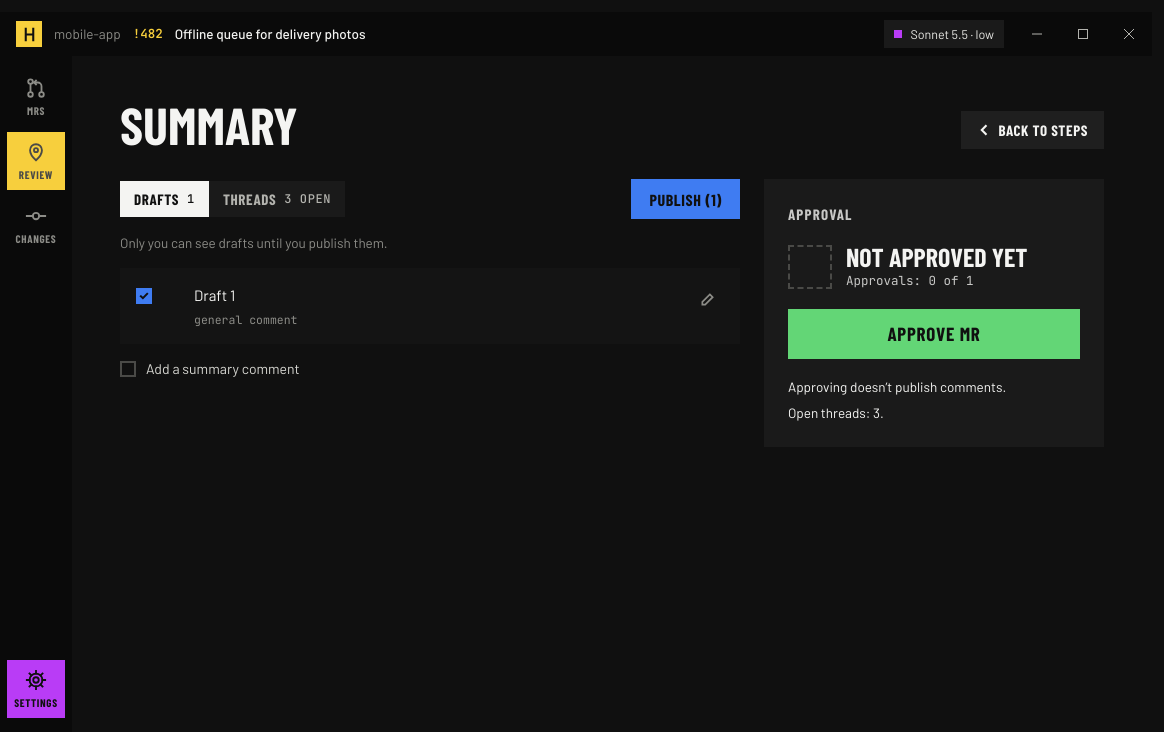
Test: S-05 Approval tile notes (F-14.3) › F-14.3 Revoke approval takes the waiting note back to "Approving doesn’t publish comments."
Expected: the element named "Comments" is shown, [120, 181, 345, 217]
Click the button "Approve MR".
click(934, 334)  # box [788, 309, 1080, 359]
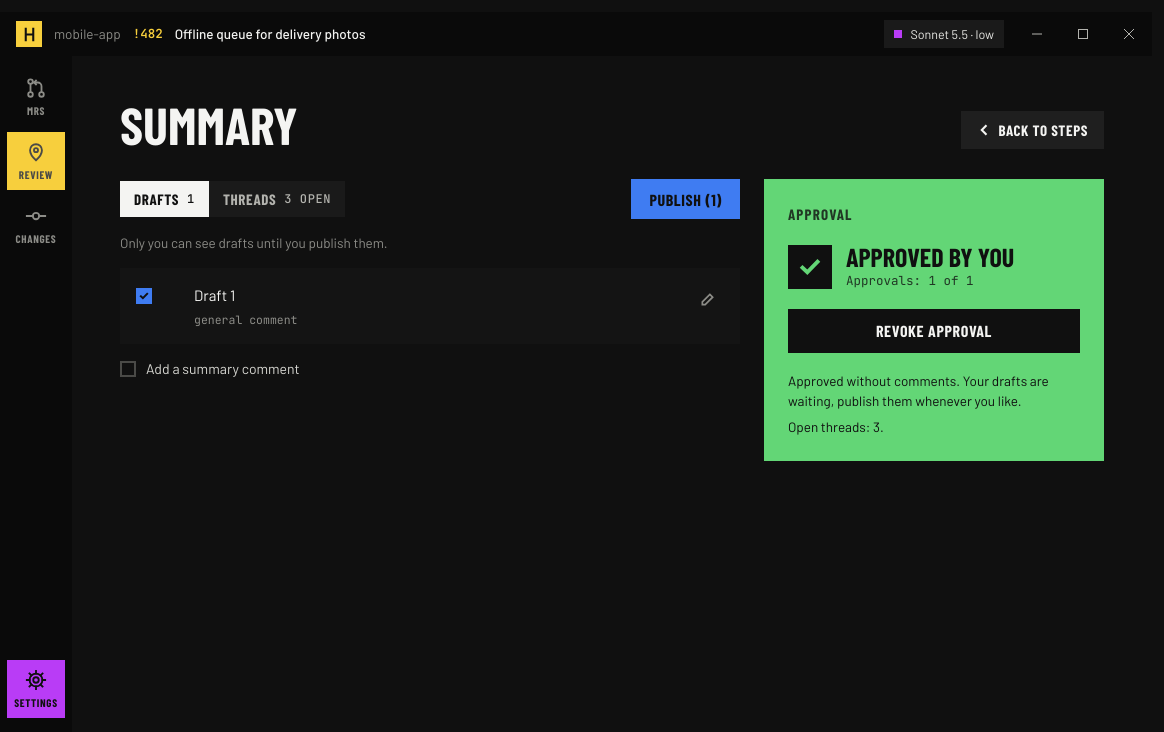
Expected: the text "Approved by you" is shown, [846, 244, 1014, 270]
Expected: the text "Approved without comments. Your drafts are waiting, publish them whenever you like." is shown, [788, 372, 1049, 409]
Click the button "Revoke approval".
click(934, 331)  # box [788, 309, 1080, 353]
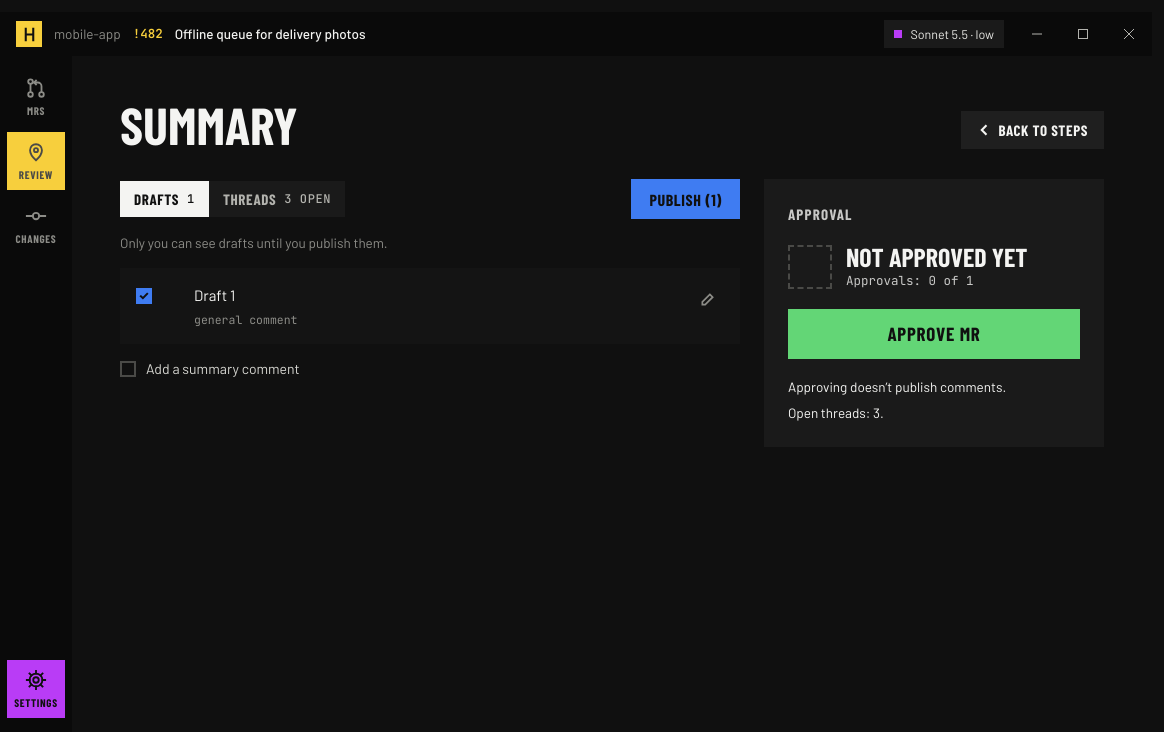
Expected: the text "Approving doesn’t publish comments." is shown, [788, 378, 1006, 395]
Expected: the text "Approved without comments. Your drafts are waiting, publish them whenever you like." is gone
